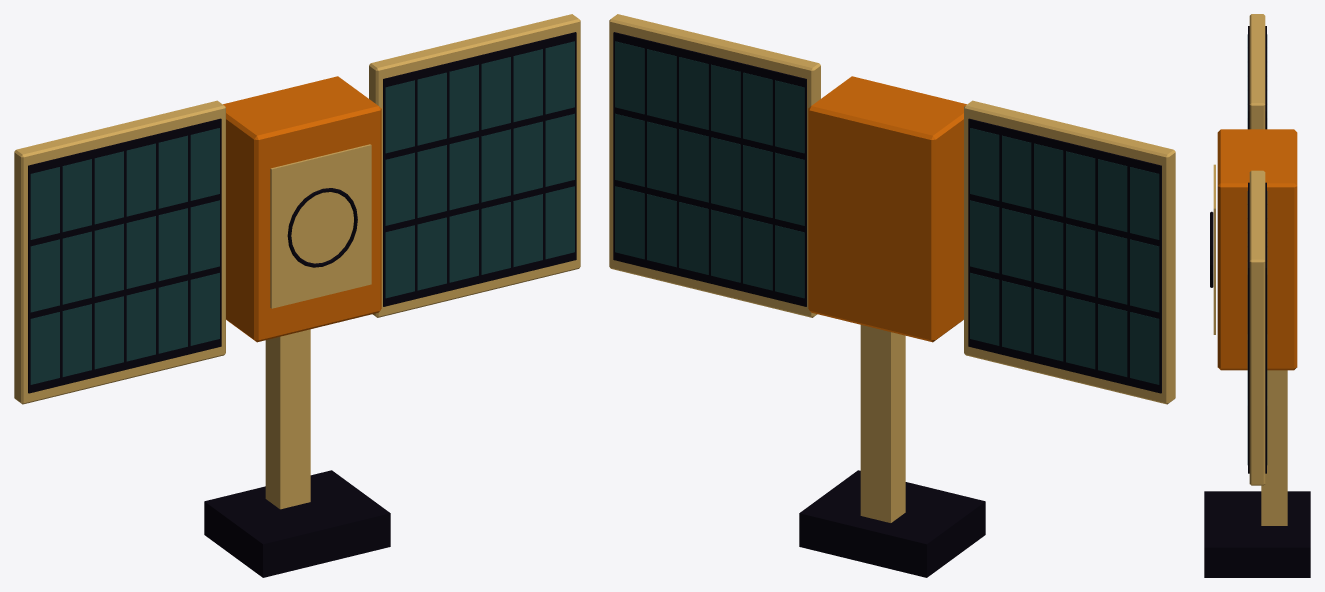
Rendered from solar_array_r12.fbx.
3 views of the same model, side by side, from view 1: azimuth 30°, elevation 25°; view 2: azimuth 150°, elevation 25°; view 3: azimuth 270°, elevation 25° (orthographic). The views are drawn at different scales.
Parts seen in each view (by area): view 1: Part_1, Part_2, Part_0, Part_-1; view 2: Part_1, Part_2, Part_0, Part_-1; view 3: Part_2, Part_-1, Part_1, Part_0.
Boxes of the visible parts, left/top/right/bottom form: Part_1: left=14, top=76, right=375, bottom=404; Part_2: left=257, top=14, right=580, bottom=317; Part_0: left=254, top=109, right=381, bottom=340; Part_-1: left=204, top=311, right=390, bottom=577; Part_1: left=812, top=100, right=1175, bottom=404; Part_2: left=609, top=14, right=966, bottom=317; Part_0: left=808, top=109, right=935, bottom=340; Part_-1: left=799, top=311, right=985, bottom=577; Part_2: left=1217, top=130, right=1297, bottom=485; Part_-1: left=1204, top=370, right=1310, bottom=577; Part_1: left=1217, top=14, right=1297, bottom=182; Part_0: left=1210, top=164, right=1297, bottom=368.
Bounding box in the file's own units: 7.7 × 6 × 1.4.
